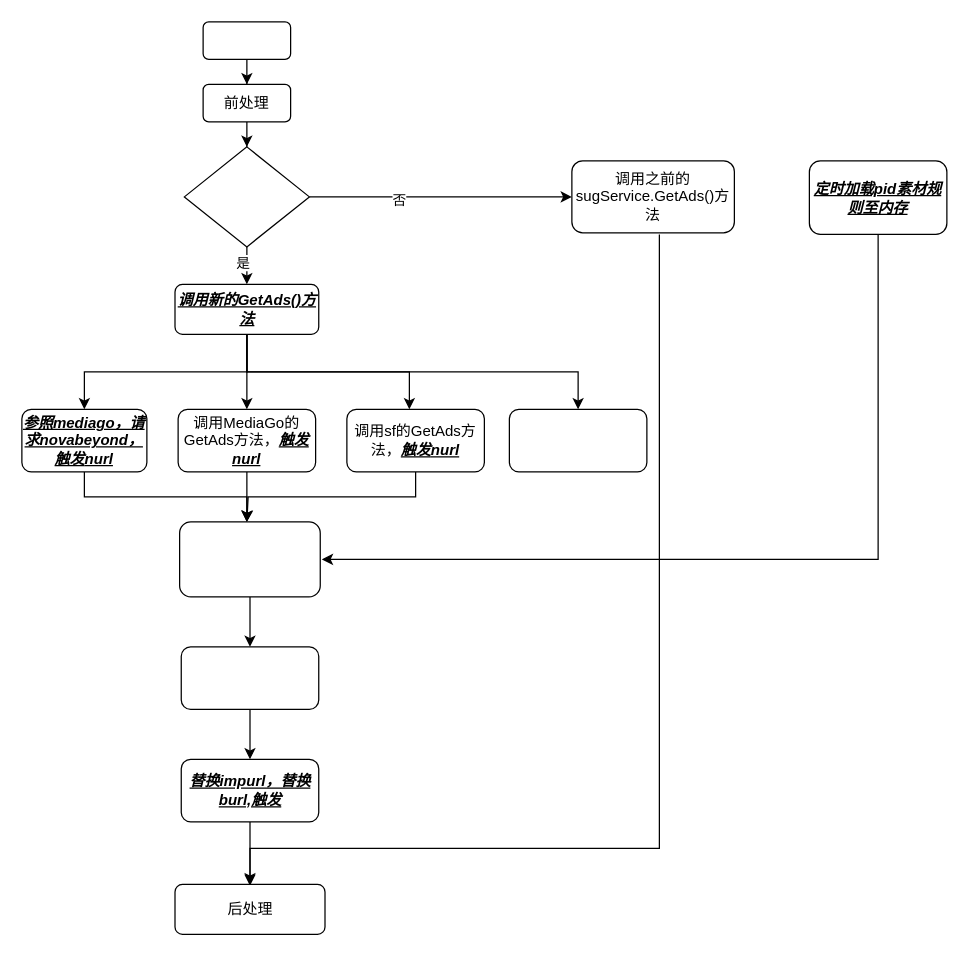
Some shapes in this 969 by 956 pixel diagram are drawn without their labels. Here are the shapes that lost their labels. From the top down, the centre of each, then its label:
(x=246, y=40): 开始
(x=246, y=196): product= oppo/vivo
(x=577, y=440): 调用ace的GetAds方法， 触发 nurl
(x=249, y=559): 聚合，使用pid获取广告素材要求，过滤不符合素材要求的广告
(x=249, y=677): 按cpm(自有按ecpm)排序，取topN
